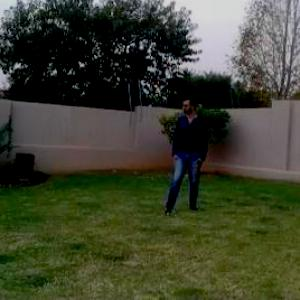follow: (169, 90, 206, 216)
